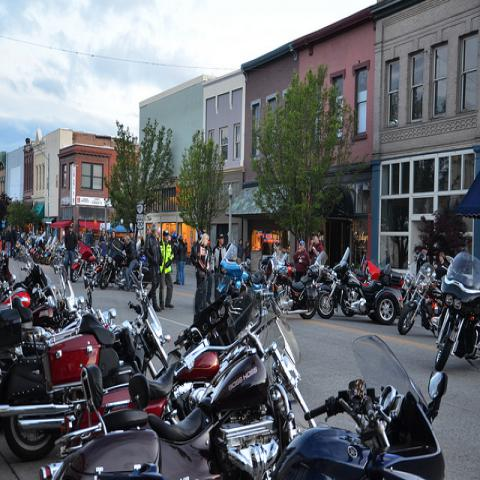motorcycle: (3, 231, 415, 412), (29, 287, 312, 479), (0, 259, 172, 466), (266, 331, 446, 474), (430, 236, 480, 374), (318, 260, 402, 326), (163, 352, 231, 423), (264, 244, 319, 319), (0, 253, 55, 314), (397, 263, 442, 336), (99, 240, 144, 291), (32, 264, 66, 312), (33, 296, 71, 330), (313, 250, 334, 287)
